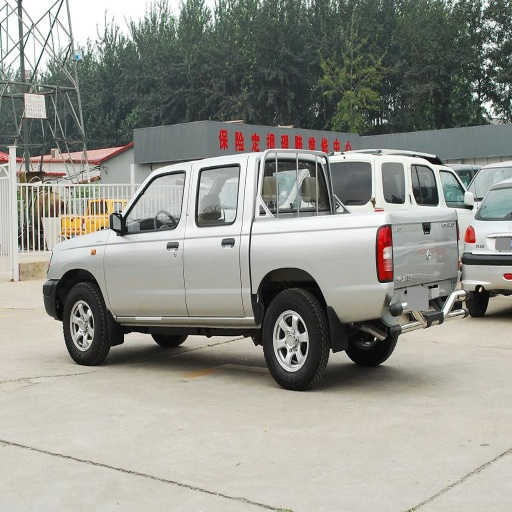back_left_door: (184, 176, 230, 312)
trunk: (215, 206, 448, 331)
